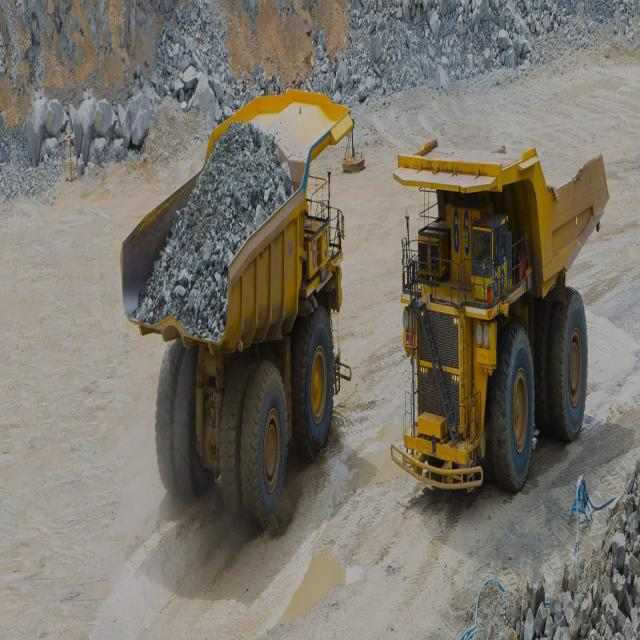dump_truck: (109, 74, 365, 546), (396, 90, 623, 509)
